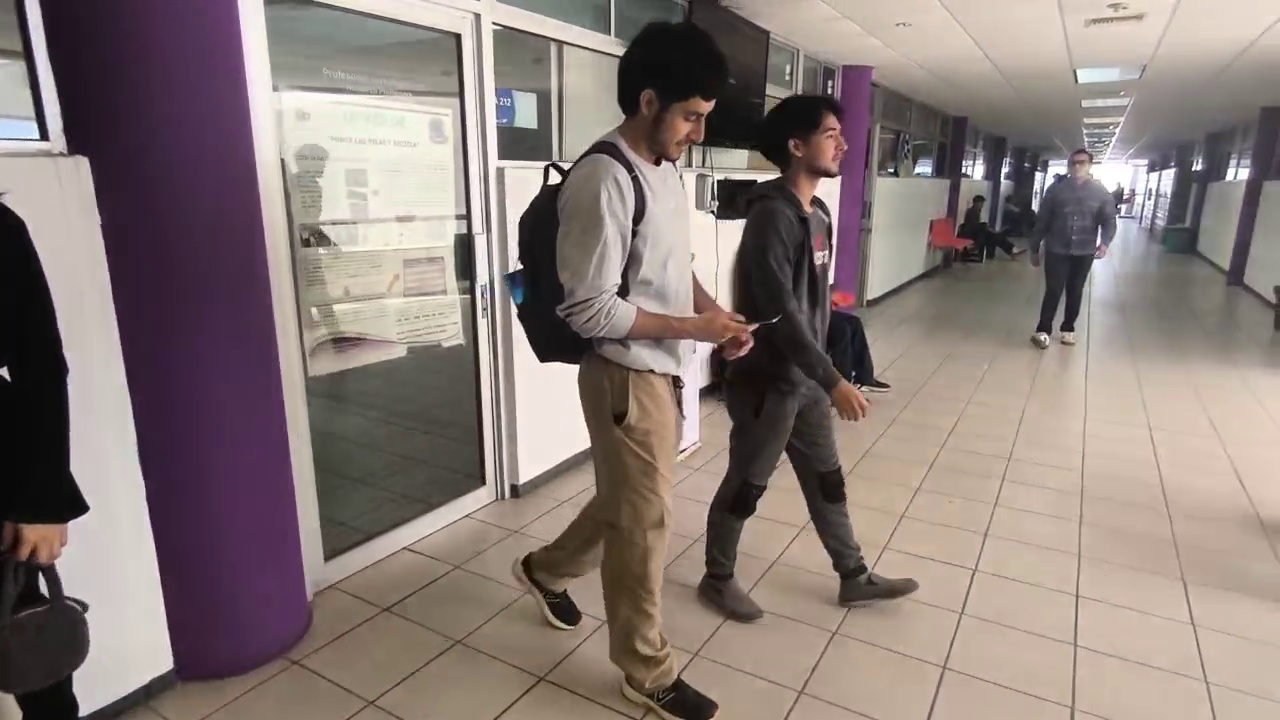mixto2: (731, 309, 787, 331)
